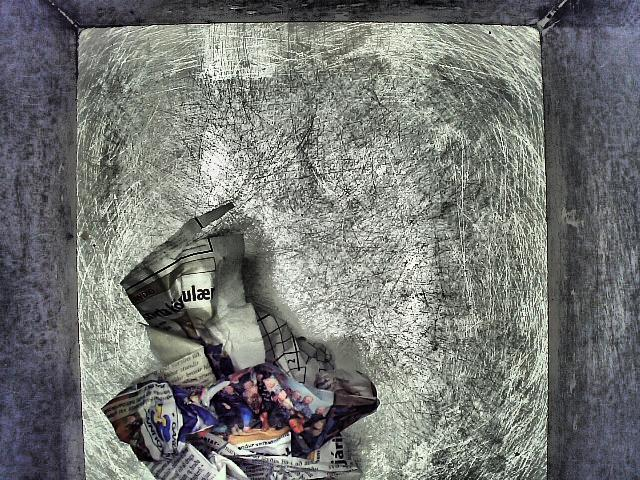Paper: (94, 201, 379, 480)
